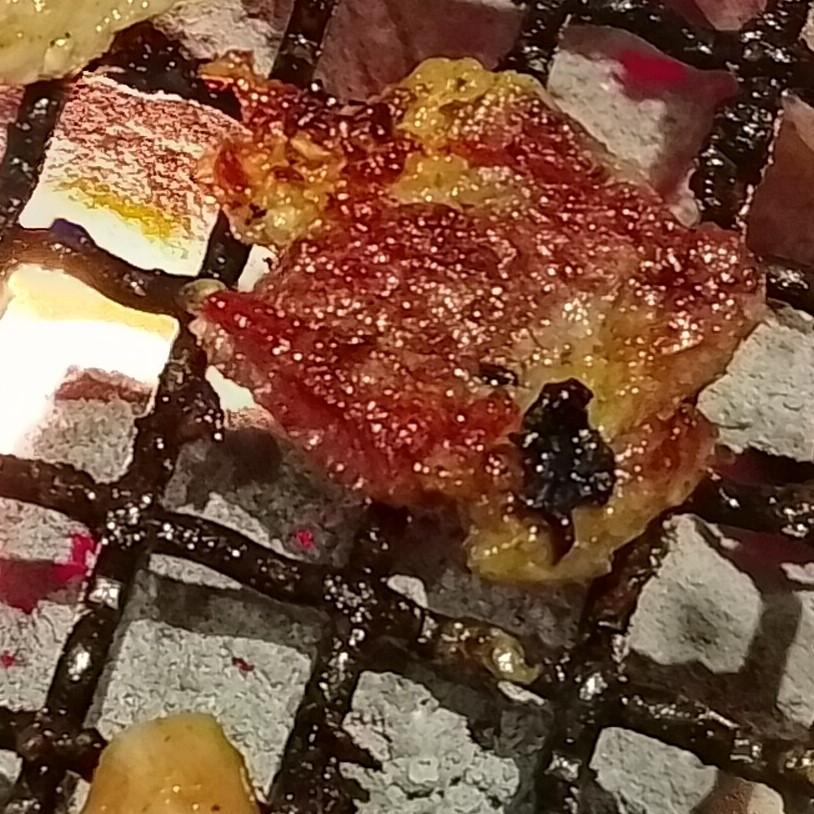Overcooked: (182, 53, 763, 583)
